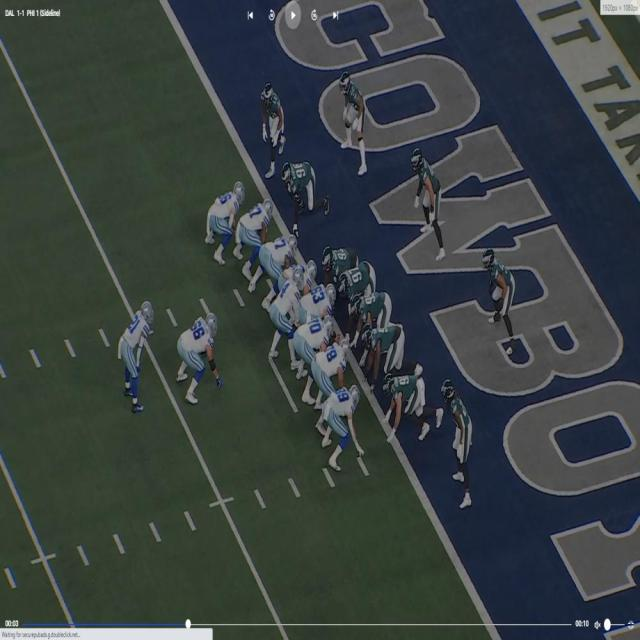center: (300, 283, 341, 332)
db: (443, 377, 475, 500), (338, 70, 366, 173)
lb: (411, 145, 447, 256), (486, 246, 516, 353), (260, 81, 283, 172)
qb: (269, 268, 305, 366)
skill: (114, 300, 156, 410), (178, 310, 218, 393), (206, 173, 246, 242), (326, 385, 361, 463), (237, 197, 272, 247)
